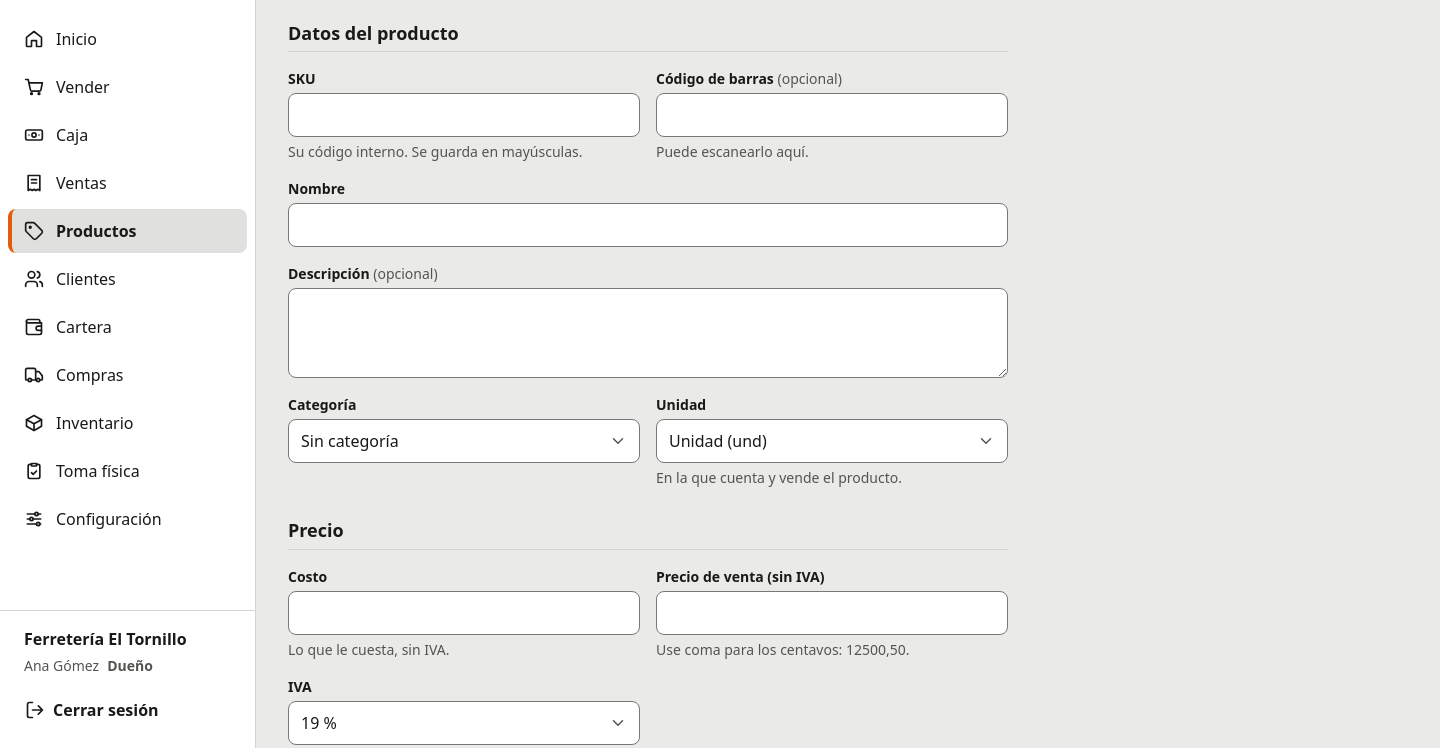
ProductFormPage: precio con IVA y margen › avisa cuando el precio queda por debajo del costo
In the field labelled "Costo": (464, 613) [288,591,640,635], type "12000"
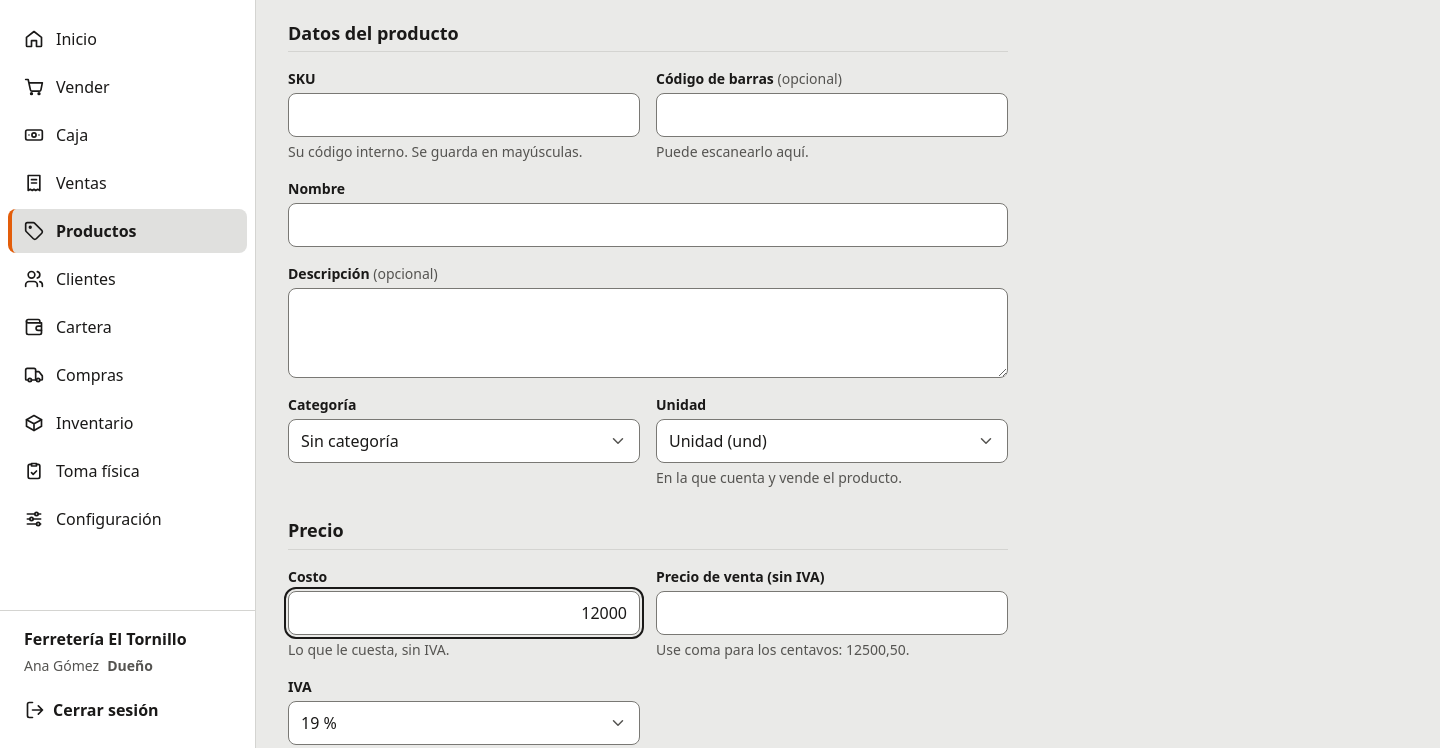
In the field labelled "Precio de venta (sin IVA)": (832, 613) [656,591,1008,635], type "10000"
(page scrolled)
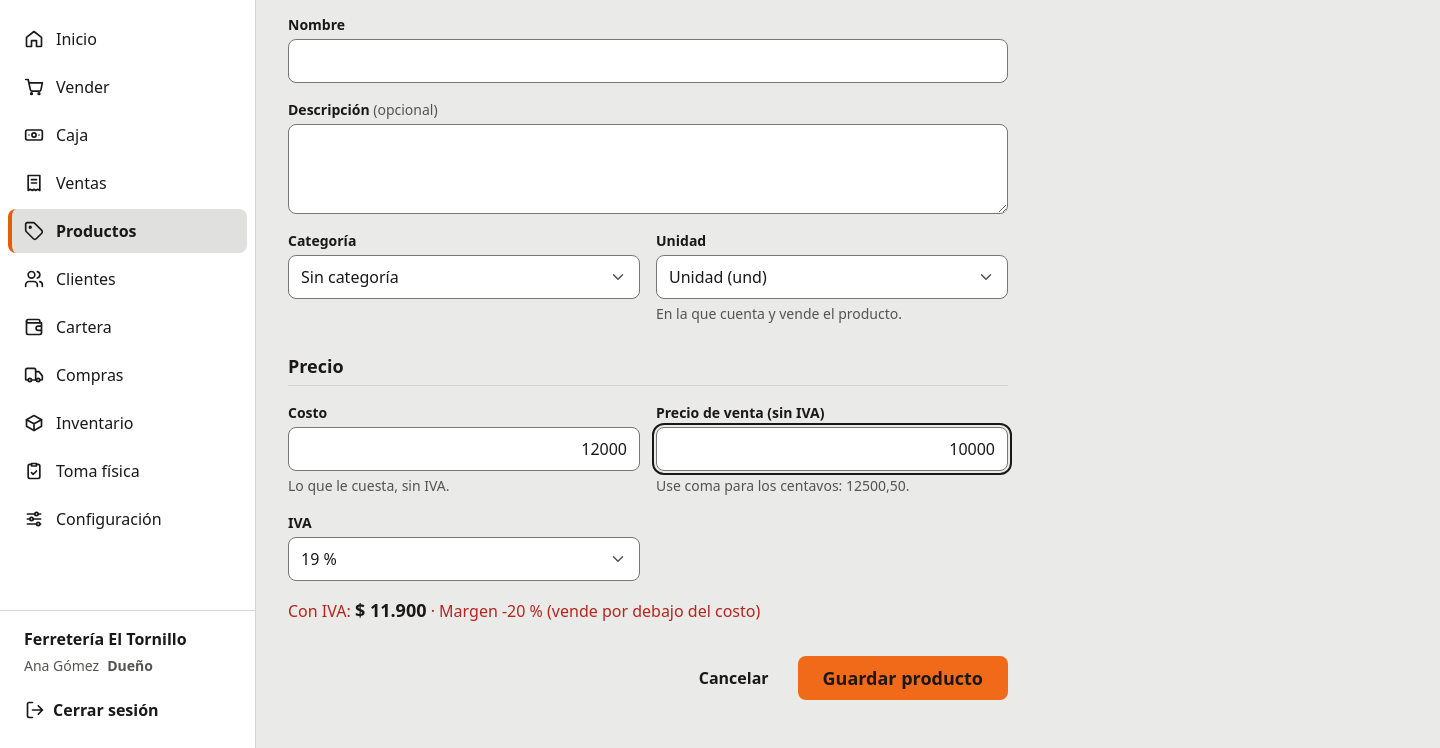
Now the element named "Con IVA y margen" reads "Con IVA: $ 11.900 · Margen -20 % (vende por debajo del costo)", box [288,598,760,622]
